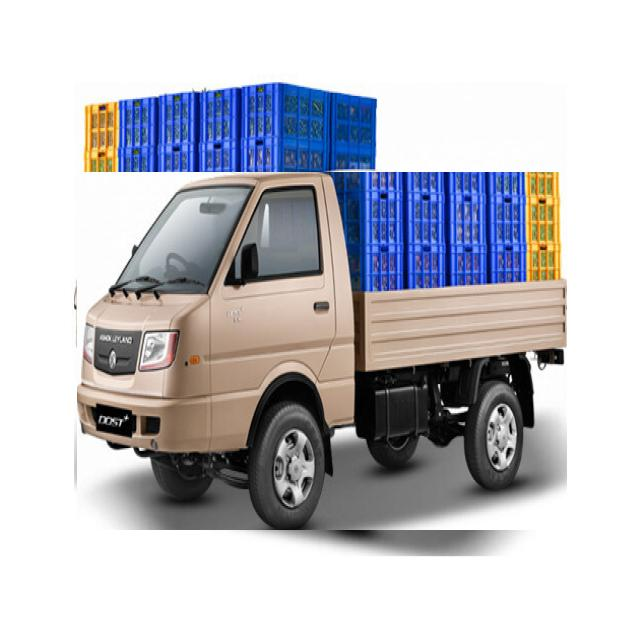truck: (77, 173, 566, 530)
